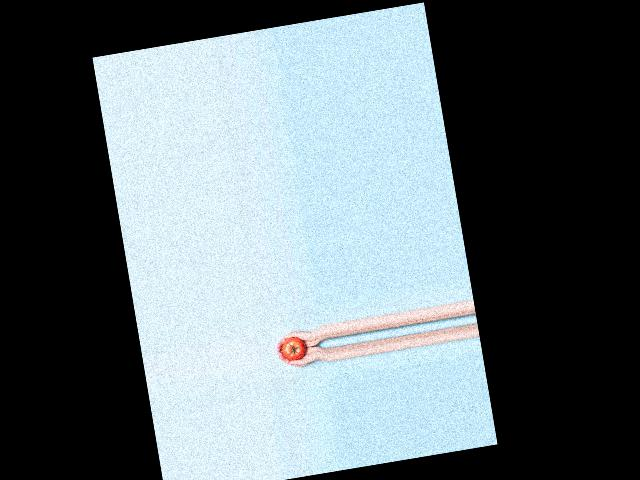tomato: (280, 335, 307, 362)
